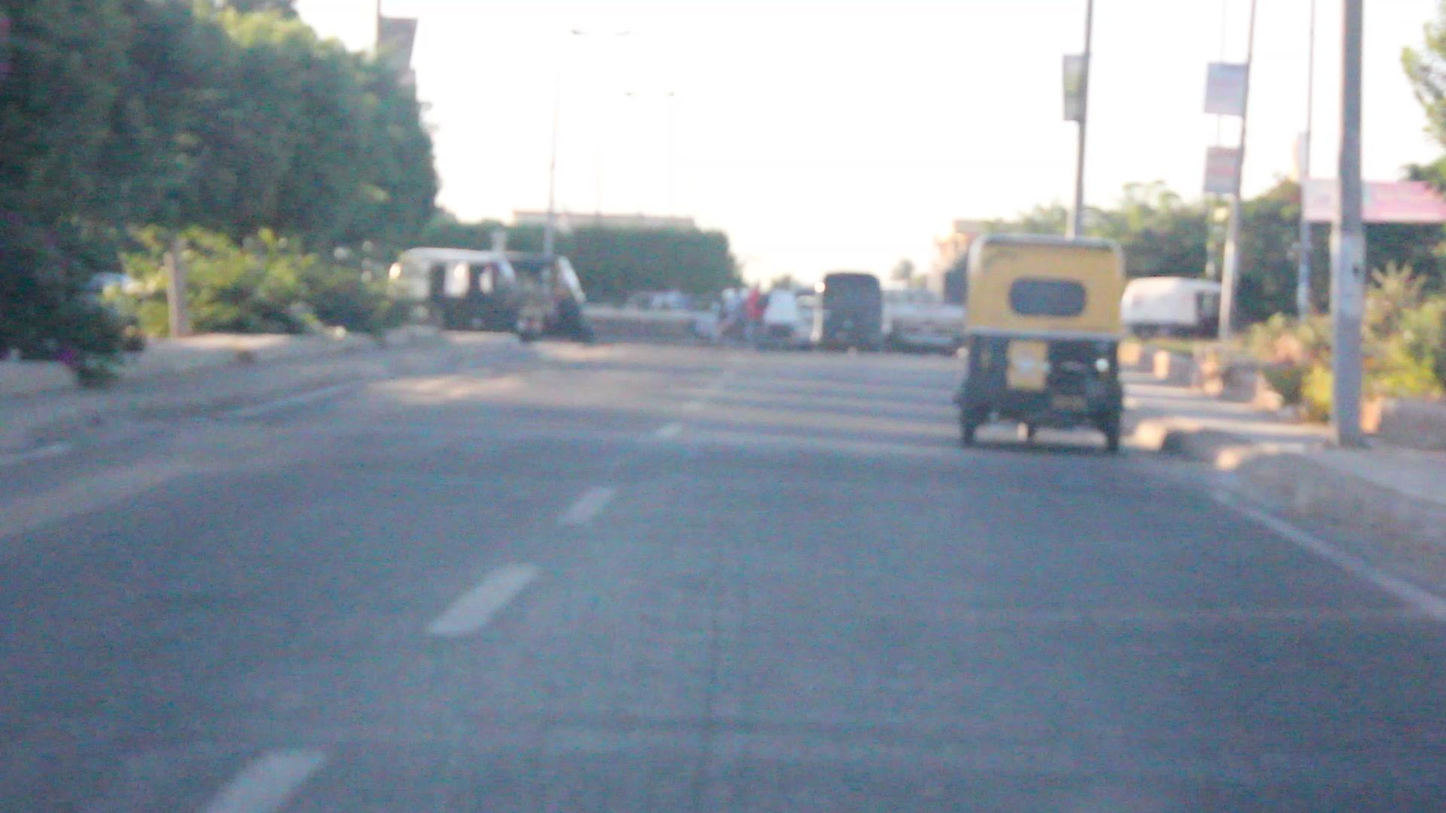Bump: (62, 416, 1271, 512)
